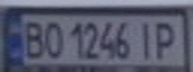1: (66, 18, 84, 60)
2: (81, 18, 100, 60)
4: (100, 18, 118, 60)
6: (112, 18, 136, 61)
B: (18, 17, 48, 60)
I: (133, 18, 160, 60)
O: (39, 18, 66, 60)
P: (148, 18, 184, 60)
